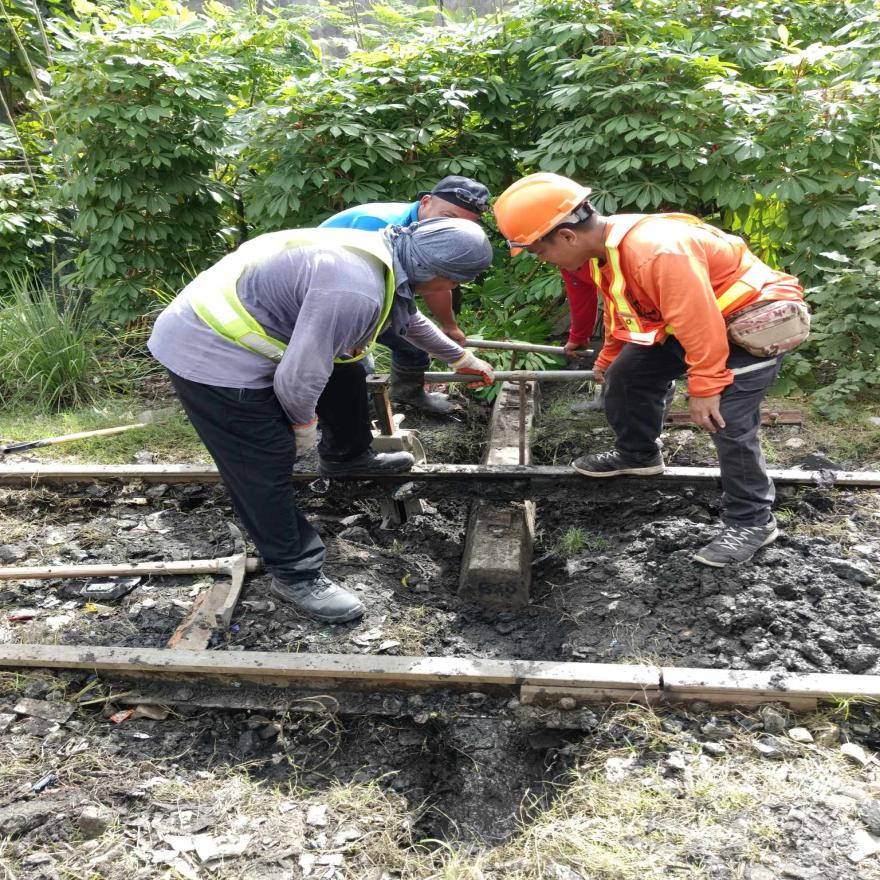railway-gap: (620, 648, 703, 712)
